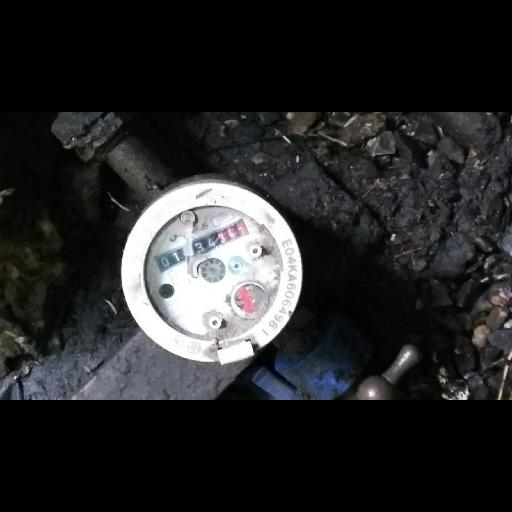0: (156, 253, 174, 272)
1: (168, 248, 185, 267)
3: (190, 238, 208, 257), (214, 228, 231, 246), (233, 219, 249, 238)
4: (202, 233, 220, 252), (224, 224, 241, 242)
border_water_meter_number: (154, 217, 251, 274)
